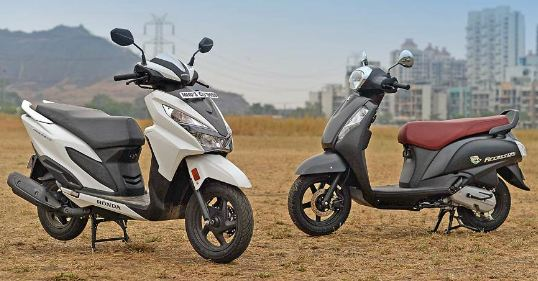bike: (8, 27, 254, 264), (287, 48, 532, 238)
